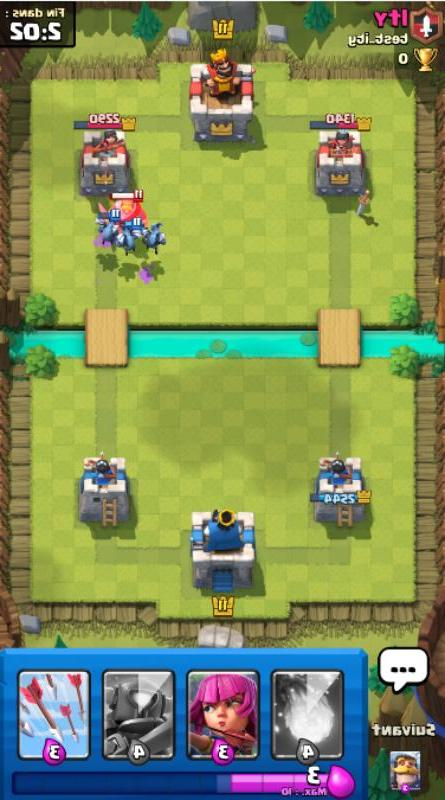chevalier: (97, 190, 150, 234)
gargouille: (94, 208, 122, 248), (115, 216, 142, 257), (141, 221, 167, 253)
